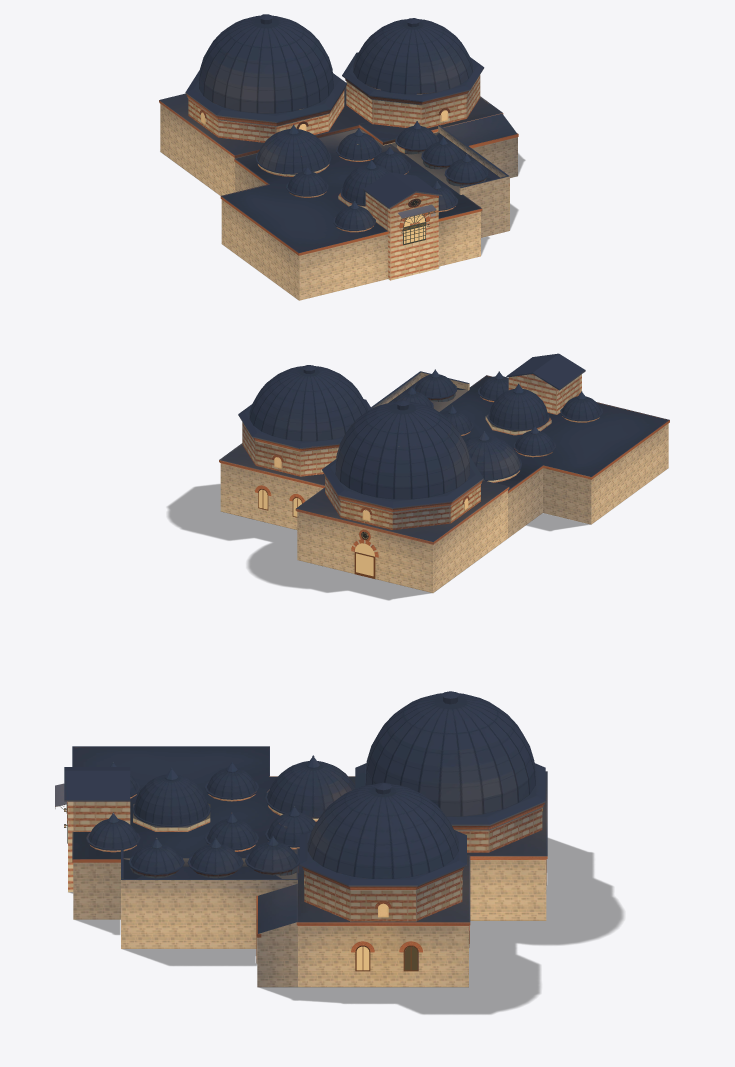
The model's file is orhan-bey-hamami_v08_night_harita_pisik.glb.
3 views of the same model, one above another, from view 1: azimuth 30°, elevation 25°; view 2: azimuth 150°, elevation 25°; view 3: azimuth 270°, elevation 25° (orthographic). The views are drawn at different scales.
Visible parts, largest first — view 1: Hamam_Sicaklik, Hamam_Sogukluk_Erkek, Hamam_Sogukluk_Kadin, Hamam_Giris, Hamam_Giris_Kadin; view 2: Hamam_Sogukluk_Erkek, Hamam_Sicaklik, Hamam_Sogukluk_Kadin, Harita_Golge, Hamam_Giris; view 3: Hamam_Sicaklik, Hamam_Sogukluk_Kadin, Hamam_Sogukluk_Erkek, Harita_Golge, Hamam_Giris, Hamam_Giris_Kadin.
Part boxes in pixels (x1,y1,x2,y2): Hamam_Sicaklik: (220, 121, 509, 300); Hamam_Sogukluk_Erkek: (159, 14, 368, 195); Hamam_Sogukluk_Kadin: (342, 18, 503, 145); Hamam_Giris: (363, 172, 442, 280); Hamam_Giris_Kadin: (444, 113, 518, 177); Hamam_Sogukluk_Erkek: (295, 400, 509, 592); Hamam_Sicaklik: (371, 369, 669, 537); Hamam_Sogukluk_Kadin: (219, 365, 371, 529); Harita_Golge: (167, 484, 589, 600); Hamam_Giris: (506, 353, 585, 414); Hamam_Sicaklik: (72, 746, 355, 948); Hamam_Sogukluk_Kadin: (296, 782, 470, 987); Hamam_Sogukluk_Erkek: (355, 691, 547, 920); Harita_Golge: (69, 838, 623, 1014); Hamam_Giris: (55, 767, 130, 892); Hamam_Giris_Kadin: (256, 884, 297, 987).
Size of the model in its own units: 45.82 by 15.2 by 52.
2 materials, 2 textured.
